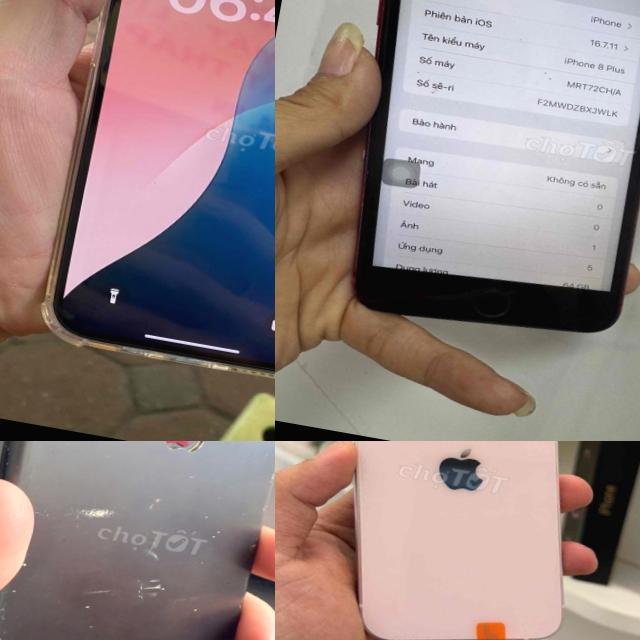scratch: (28, 472, 186, 544), (84, 568, 184, 610), (402, 58, 454, 100), (0, 582, 19, 640), (530, 62, 558, 88), (244, 534, 264, 557), (142, 548, 164, 562), (260, 444, 275, 461), (193, 511, 216, 521), (263, 467, 275, 483), (105, 451, 122, 461), (192, 606, 204, 618), (210, 526, 222, 538), (20, 560, 34, 570), (232, 602, 244, 613), (182, 472, 198, 480), (29, 441, 50, 447), (235, 510, 248, 519), (86, 622, 98, 631), (262, 500, 270, 513), (82, 600, 92, 610), (212, 492, 224, 500), (196, 557, 208, 564)
